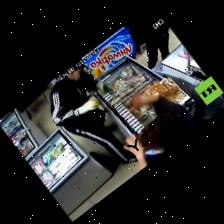person: (49, 60, 136, 164), (124, 95, 196, 169), (128, 10, 169, 69)
